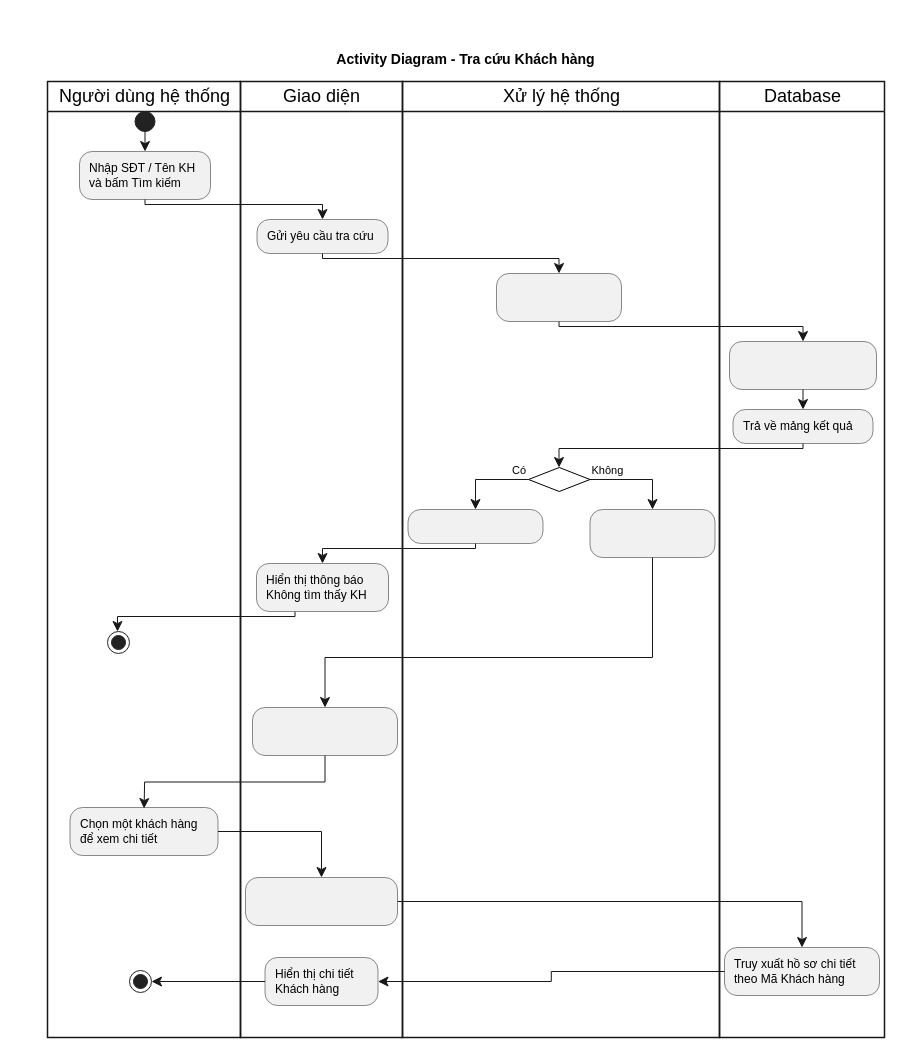
This 902x1055 diagram has some shape labels left out. The shapes that lost their labels are listed below. From the top down, each one's centre as x and y in pixels, then its label:
the point at 558,297: Xử lý từ khóa, chuẩn bị truy vấn
the point at 802,365: Thực thi truy vấn tìm kiếm Khách hàng
the point at 475,526: Tạo thông báo rỗng
the point at 652,533: Định dạng dữ liệu danh sách trả về
the point at 324,731: Hiển thị danh sách Khách hàng tìm được
the point at 321,901: Gửi yêu cầu lấy chi tiết hồ sơ, hạng, điểm
